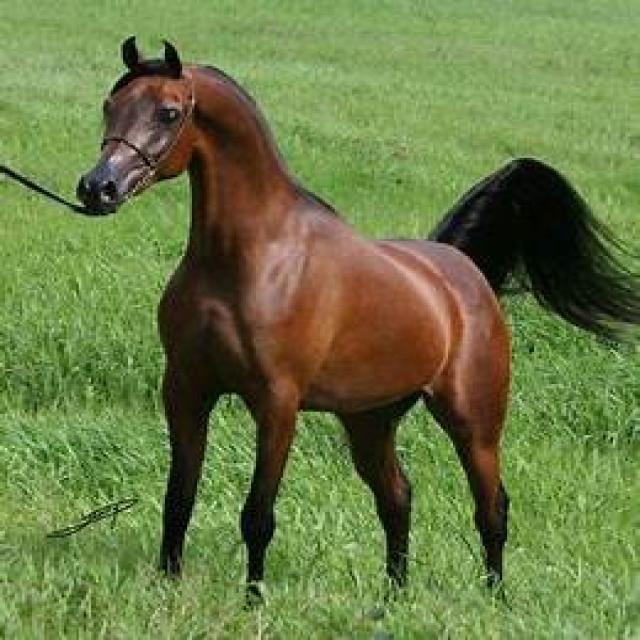horse: (76, 38, 512, 606)
